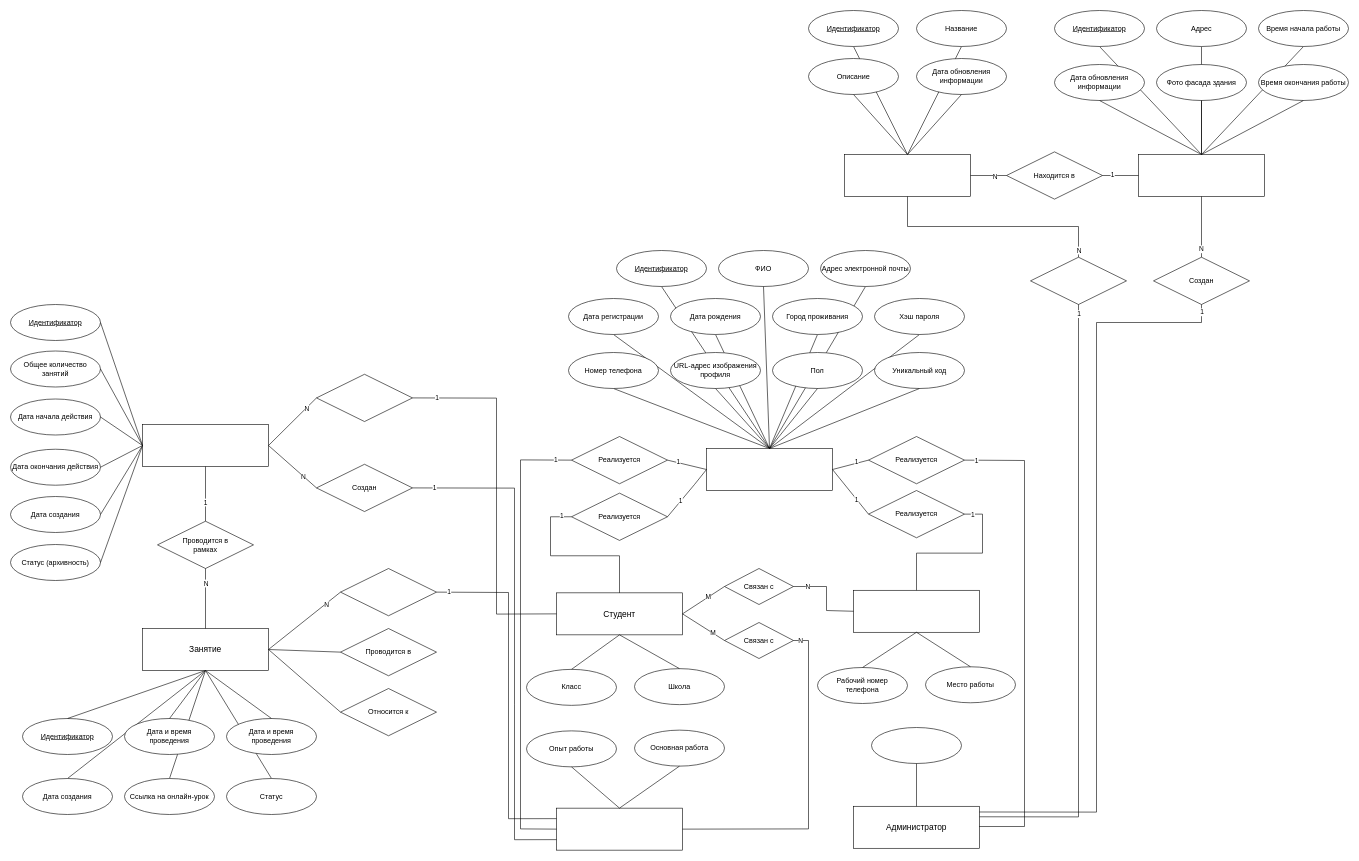
Image size: 1359x861. Some labels were removed from this diagram. The centre of each missing label's shape, as x and y in pixels:
Абонемент: the point at 205,445
Аудитория: the point at 907,175
Организовано: the point at 388,592
Офис: the point at 1201,175
Пользователь: the point at 769,469
Принадлежи т: the point at 364,398
Родитель: the point at 916,611
Создана: the point at 1078,280
Уровень доступа: the point at 916,745
Учитель: the point at 619,829
